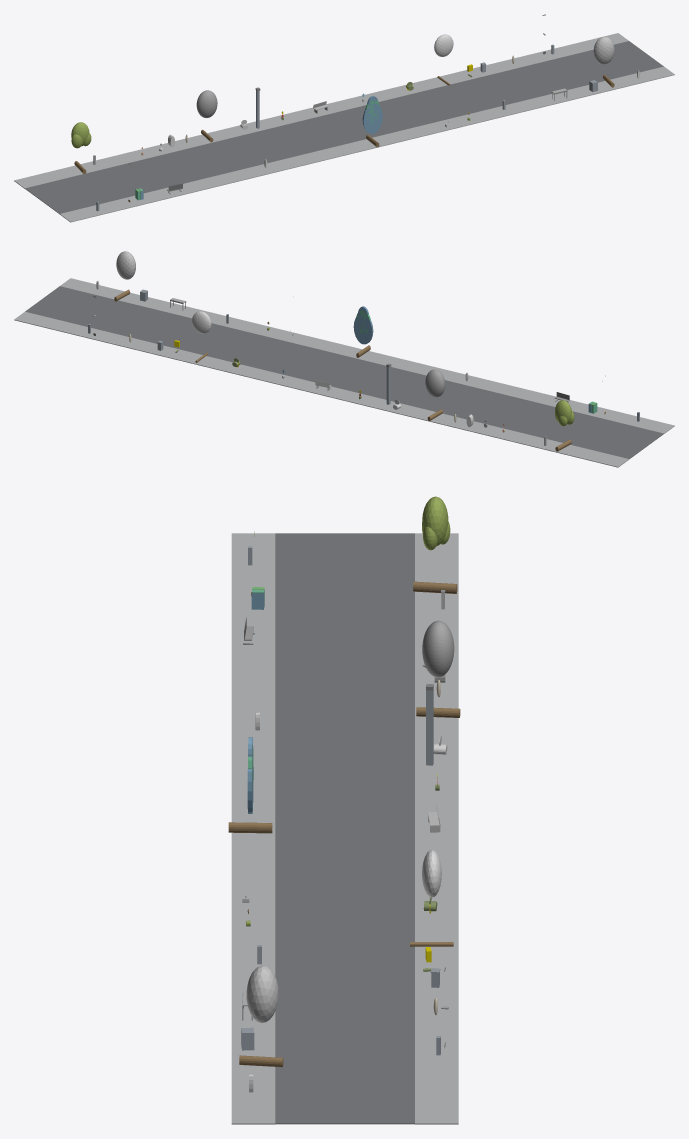
The picture shows the model from 3 angles, top to bottom: view 1: azimuth 30°, elevation 25°; view 2: azimuth 150°, elevation 25°; view 3: azimuth 270°, elevation 25°; orthographic projection. The views are drawn at different scales.
Visible parts, largest first — view 1: road_slab, sidewalk_left, sidewalk_right, inst_0014, inst_0016, inst_0013, inst_0012, inst_0015; view 2: road_slab, sidewalk_right, sidewalk_left, inst_0014, inst_0016, inst_0013, inst_0012, inst_0015; view 3: road_slab, sidewalk_left, sidewalk_right, inst_0016, inst_0013, inst_0012, inst_0015, inst_0014.
Part boxes in pixels (left/top/right/bottom): road_slab: left=25, top=41, right=663, bottom=213; sidewalk_left: left=59, top=66, right=674, bottom=222; sidewalk_right: left=14, top=33, right=628, bottom=188; inst_0014: left=362, top=95, right=382, bottom=147; inst_0016: left=593, top=36, right=614, bottom=87; inst_0013: left=196, top=90, right=217, bottom=142; inst_0012: left=71, top=122, right=91, bottom=173; inst_0015: left=434, top=34, right=453, bottom=85; road_slab: left=25, top=286, right=663, bottom=458; sidewalk_right: left=14, top=311, right=629, bottom=467; sidewalk_left: left=60, top=278, right=674, bottom=433; inst_0014: left=353, top=306, right=373, bottom=357; inst_0016: left=114, top=251, right=135, bottom=301; inst_0013: left=425, top=369, right=445, bottom=421; inst_0012: left=555, top=400, right=574, bottom=451; inst_0015: left=192, top=311, right=211, bottom=362; road_slab: left=275, top=533, right=414, bottom=1124; sidewalk_left: left=231, top=533, right=275, bottom=1124; sidewalk_right: left=415, top=533, right=458, bottom=1124; inst_0016: left=239, top=965, right=283, bottom=1067; inst_0013: left=416, top=620, right=460, bottom=717; inst_0012: left=413, top=496, right=457, bottom=593; inst_0015: left=410, top=850, right=453, bottom=946; inst_0014: left=228, top=737, right=272, bottom=833.
Size of the model in its own units: 80 by 6.08 by 13.28.
